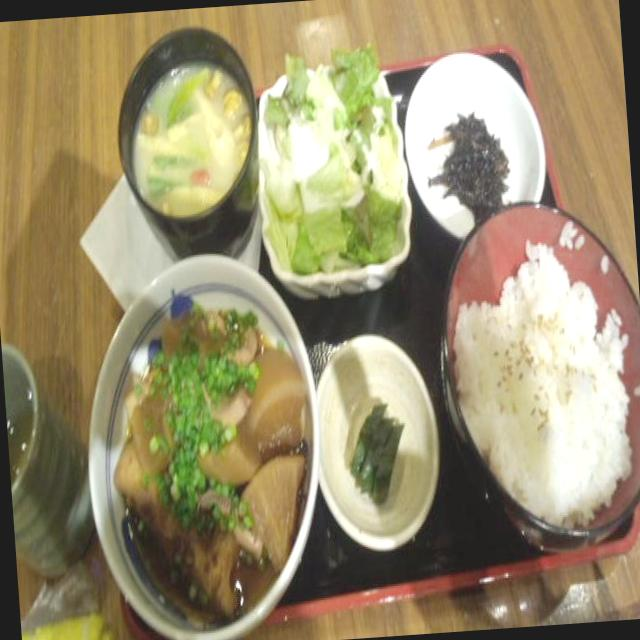Rice: (447, 242, 633, 509)
